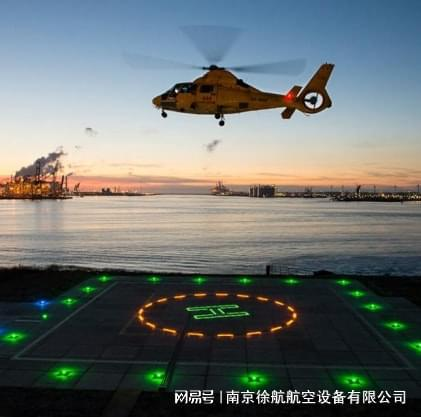Apron: (134, 289, 298, 340)
